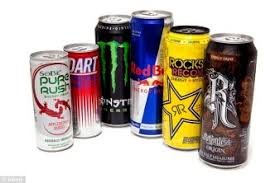can: (205, 23, 254, 171), (26, 50, 76, 156), (164, 19, 198, 152), (132, 5, 164, 144), (70, 35, 106, 141), (98, 11, 131, 126)
